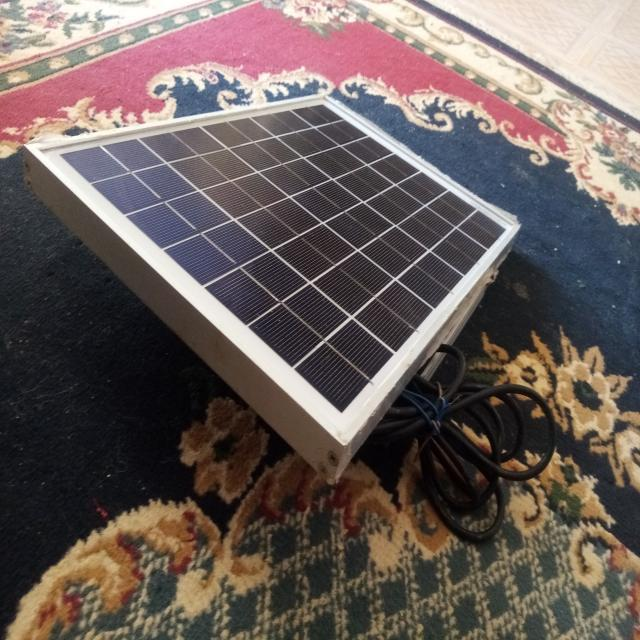no faulty: (32, 94, 520, 443)
